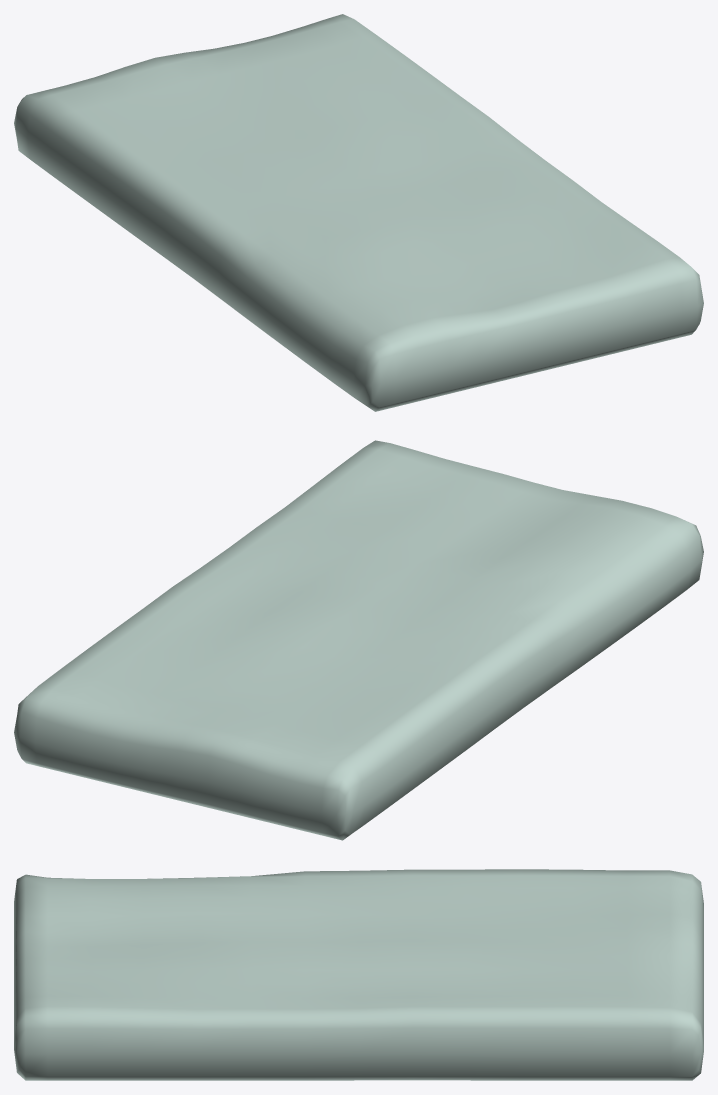
Rendered from Mattress.FBX.
3 renders of one model, top to bottom at view 1: azimuth 30°, elevation 25°; view 2: azimuth 150°, elevation 25°; view 3: azimuth 270°, elevation 25°, orthographic. The views are drawn at different scales.
Parts seen in each view (by area): view 1: mattress; view 2: mattress; view 3: mattress.
Part boxes in pixels (box(x1,y1,x2,y2)): mattress: box(14, 14, 703, 411); mattress: box(14, 440, 703, 840); mattress: box(14, 869, 703, 1080).
Size of the model in its own units: 91.62 by 18.59 by 170.
Materials: 1 (1 with a texture image).
